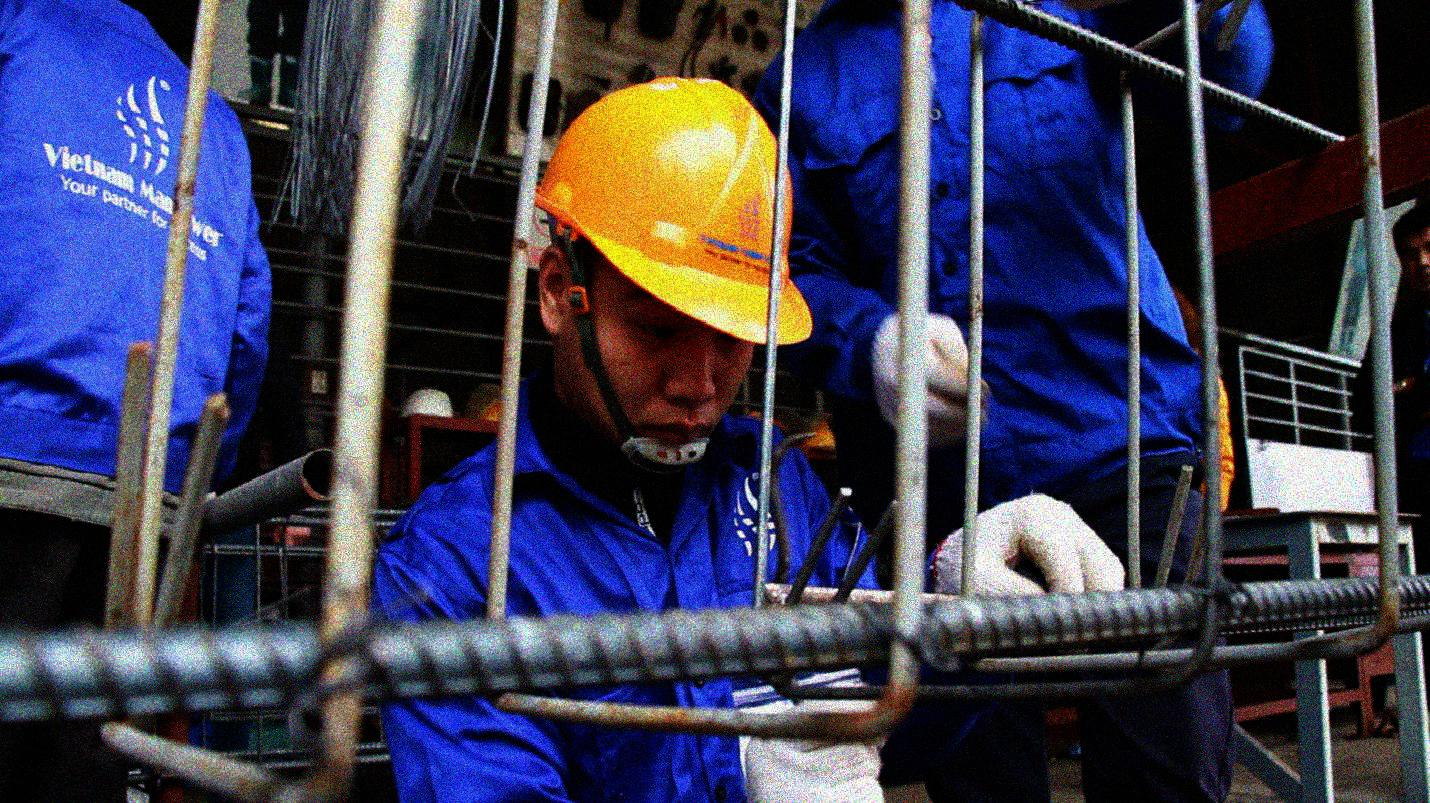helmet: (529, 70, 822, 453)
